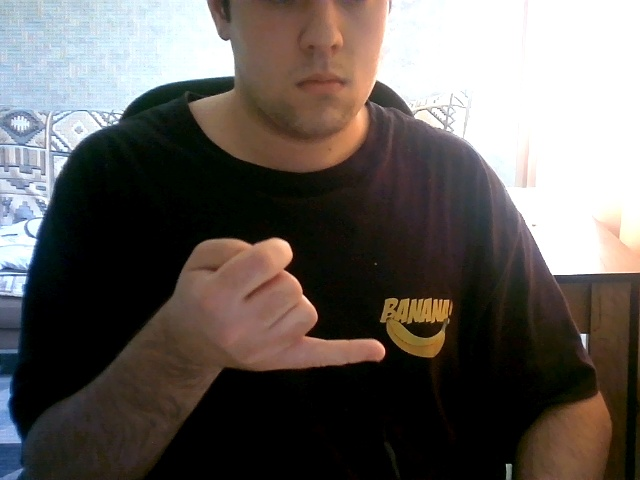bad: (148, 211, 388, 378)
